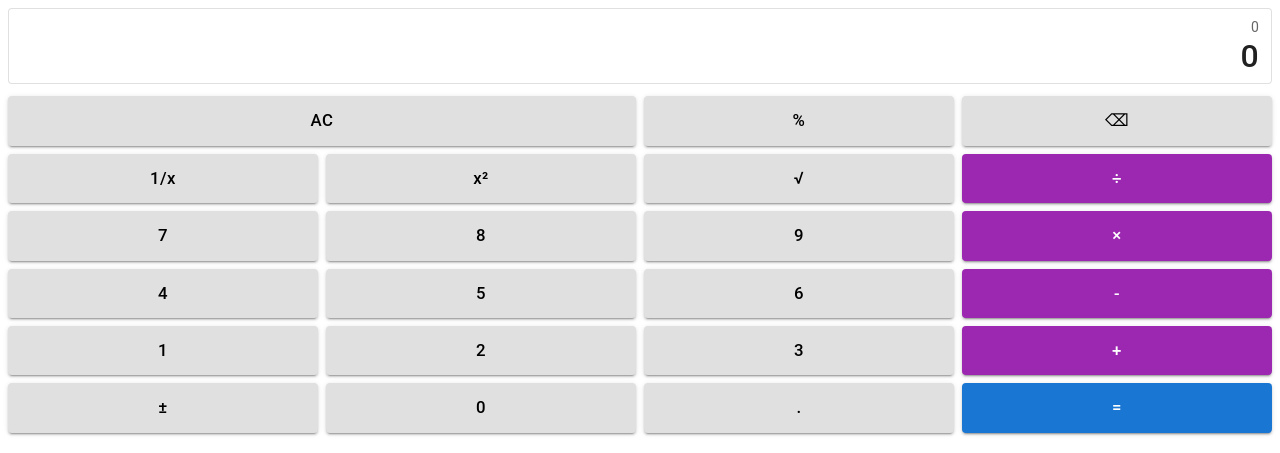
Test case: <Calculator /> (MUI skin) › computes 7 + 8 = 15 through key clicks
This screenshot has width=1280, height=453.
Click the button with test id "calc-key-7": (163, 236) [8, 211, 318, 261]
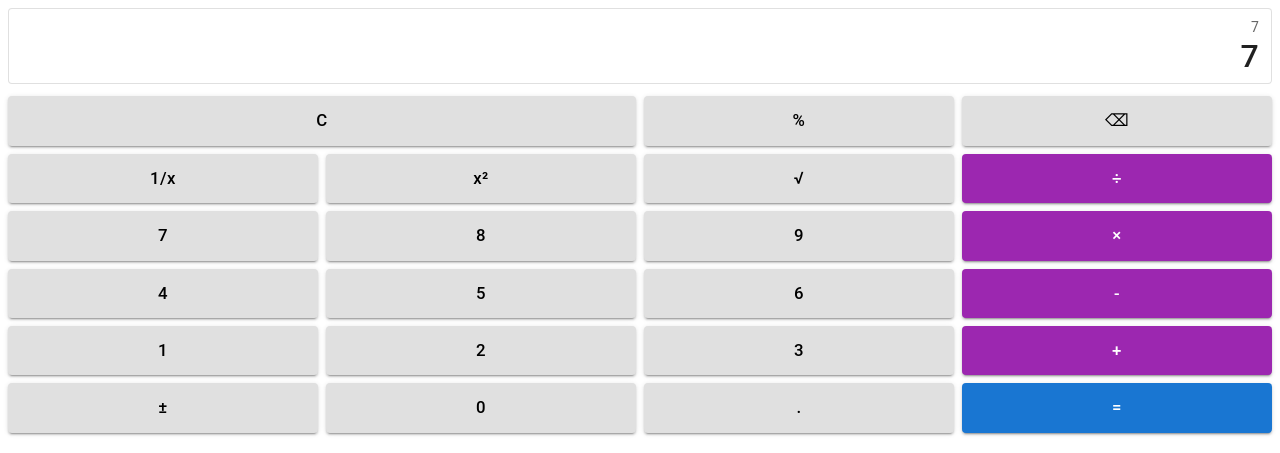
Click the button with test id "calc-key-add": (1117, 351) [962, 326, 1272, 375]
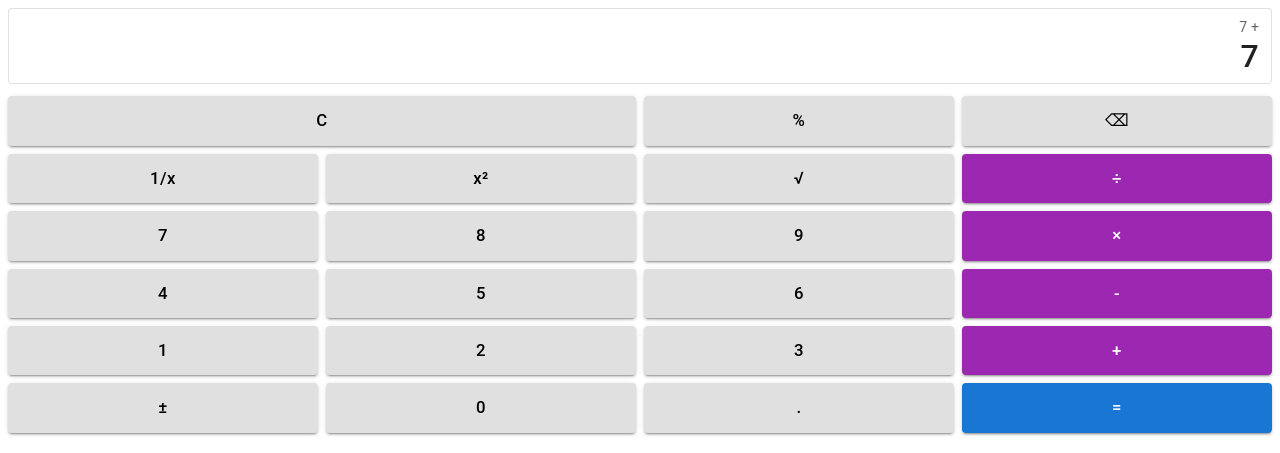
Click the button with test id "calc-key-8": (481, 236) [326, 211, 636, 261]
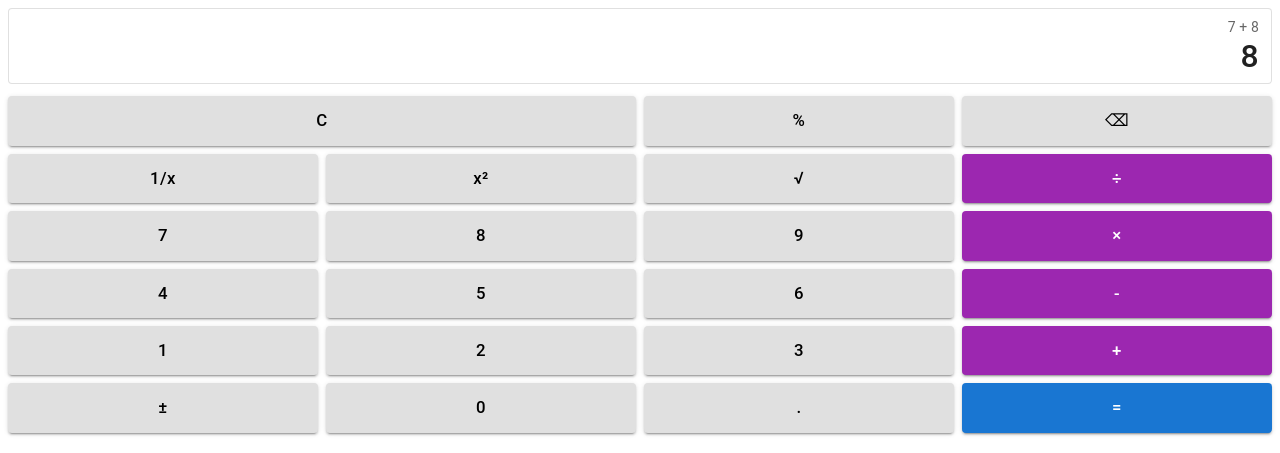
Click the button with test id "calc-key-equals": (1117, 408) [962, 383, 1272, 433]
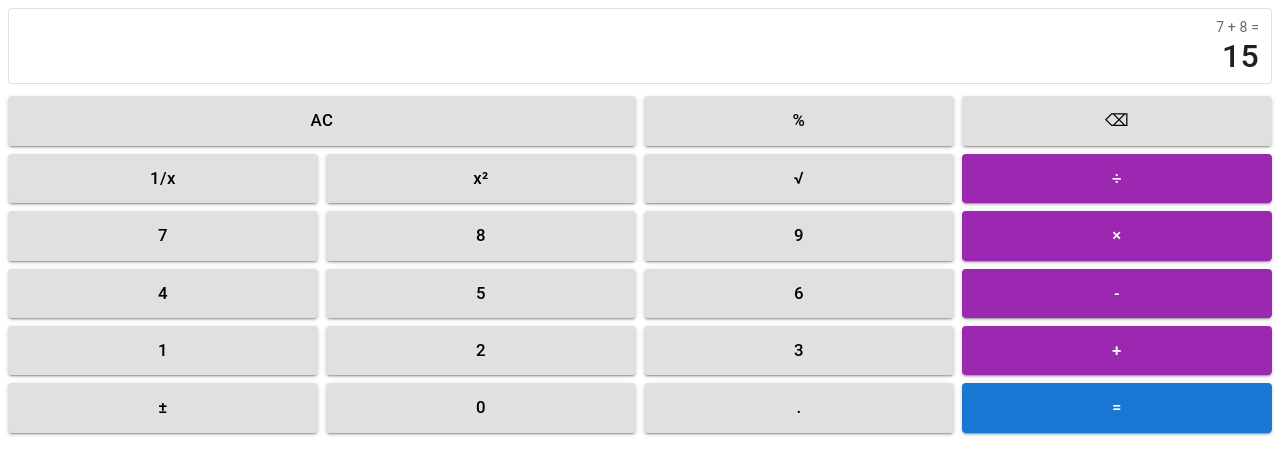
Expected: the text with test id "calculator-display" reads "15", [1222, 37, 1259, 75]
Expected: the text with test id "calculator-expression" reads "7 + 8 =", [1216, 19, 1259, 35]
